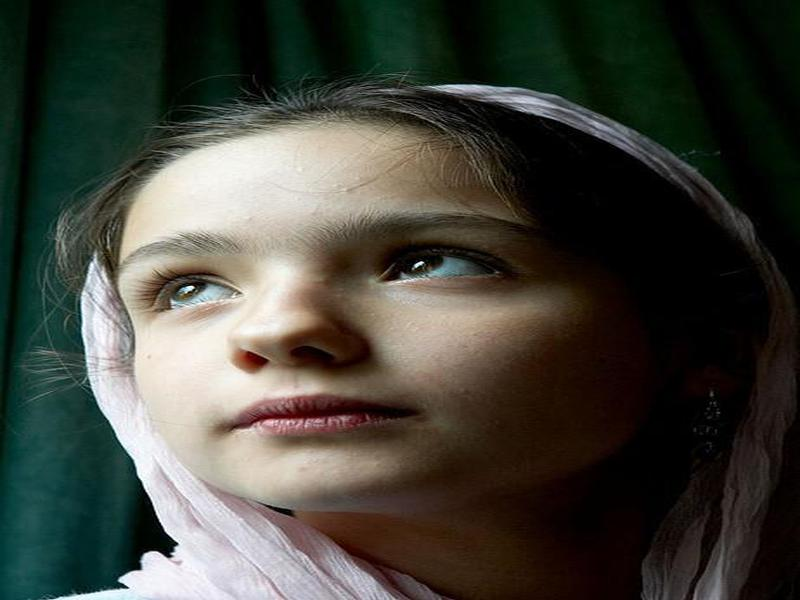person: (57, 73, 796, 600)
